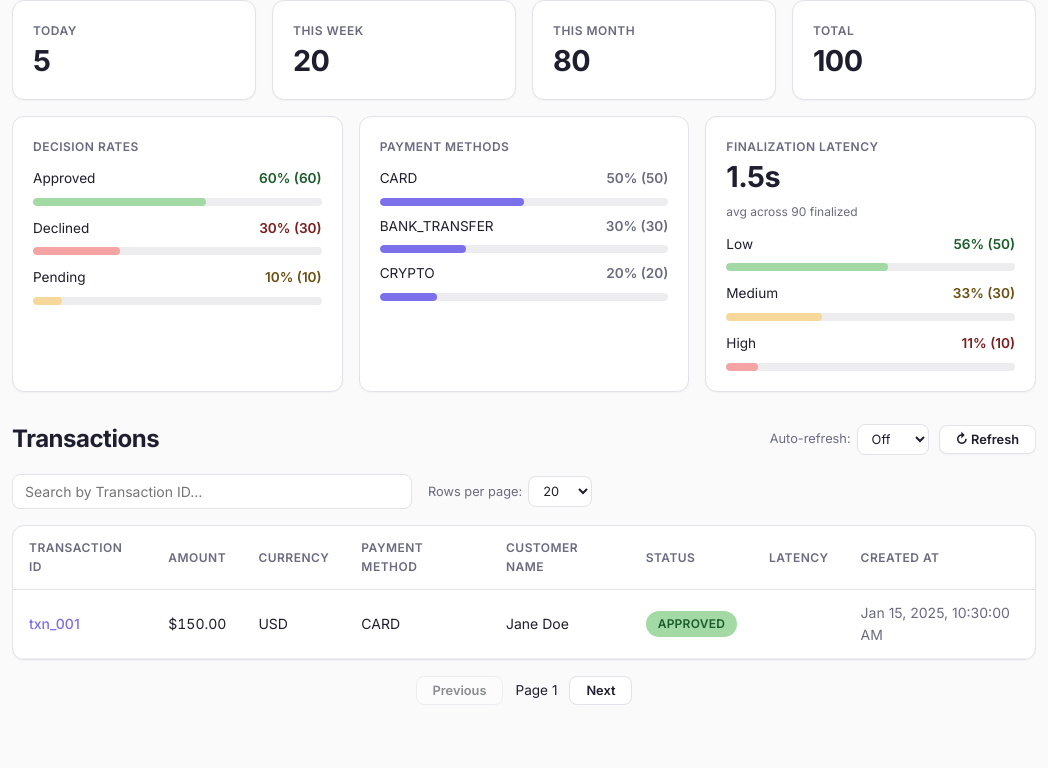
Test: TransactionList › changes page size and resets to page 1
Expected: the link "txn_001" is shown, [29, 615, 80, 632]
Click the button with aria-label "Next page". click: (601, 691)
box: [569, 676, 632, 706]
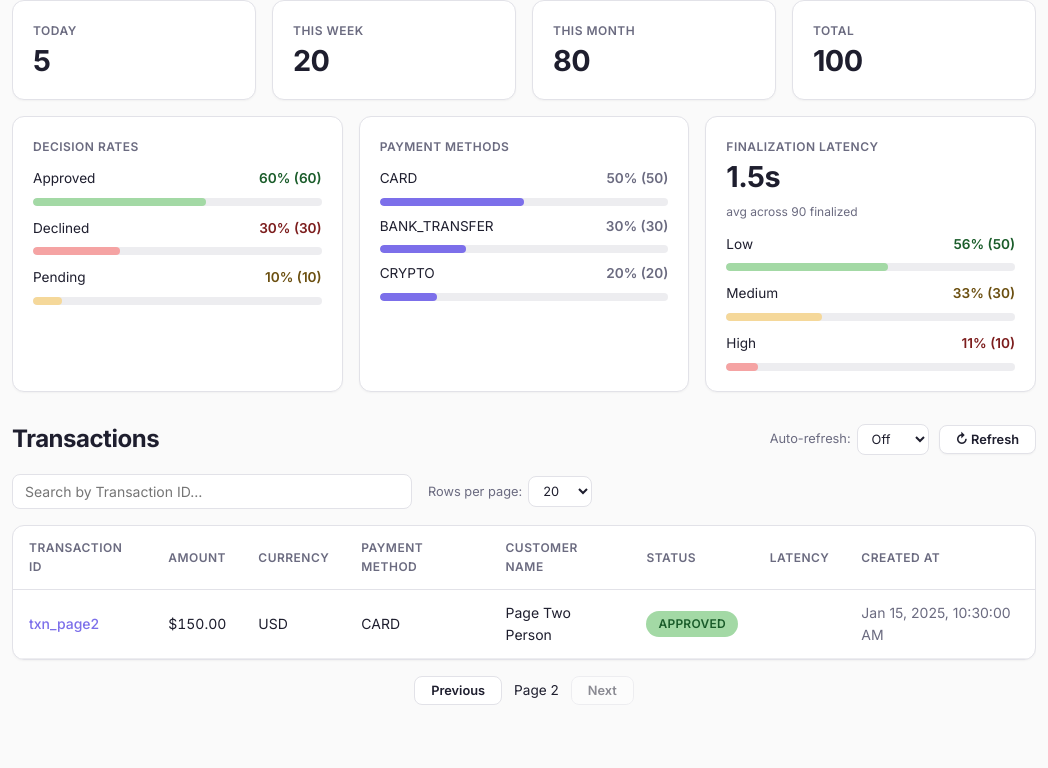
Now the text "Page 2" is shown, box [514, 680, 559, 702]
Select "50" in the dropdown named "Page size". click: (560, 492)
box: [528, 476, 592, 507]
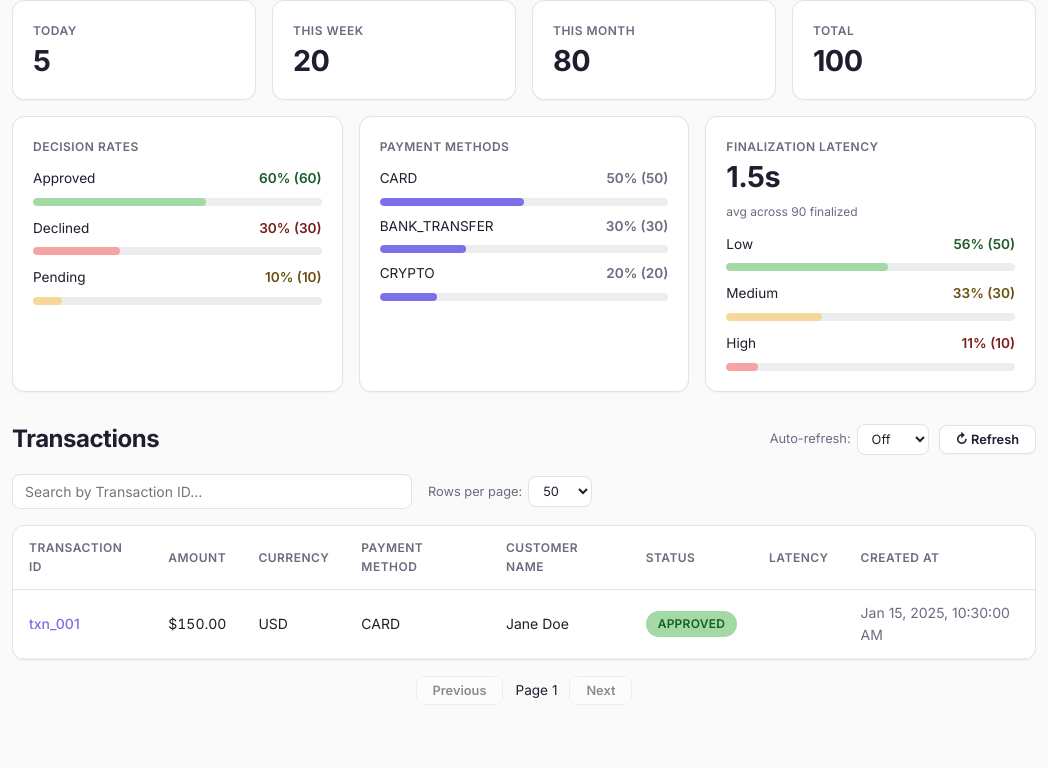
Now the text "Page 1" is shown, box [516, 680, 557, 702]
